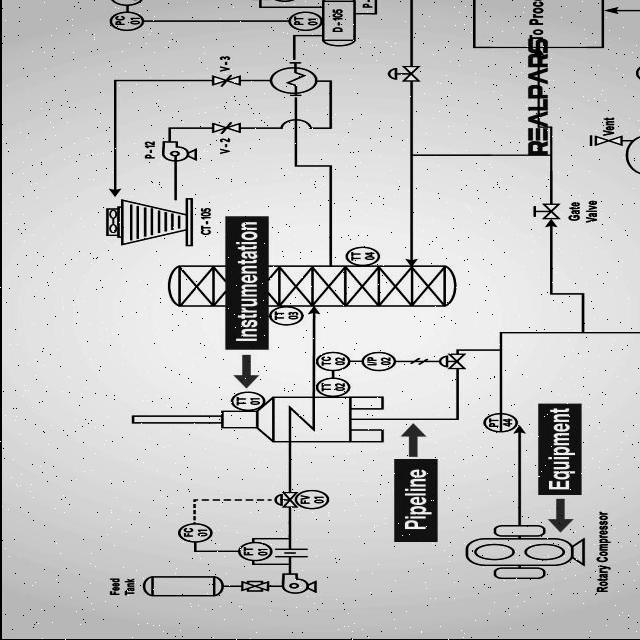Butterfly Valve: (183, 75, 254, 93), (204, 120, 250, 136)
Centrifugal Pump: (158, 140, 198, 168)
Gate Valve: (590, 134, 624, 152)
Hand Operated Gate Valve: (520, 198, 560, 221)
Orifice: (268, 542, 312, 562)
Plug Valve: (234, 579, 274, 598)
Pneumatic-Diaphragm Gate Valve: (424, 352, 466, 379), (382, 65, 421, 89), (270, 490, 296, 510)
